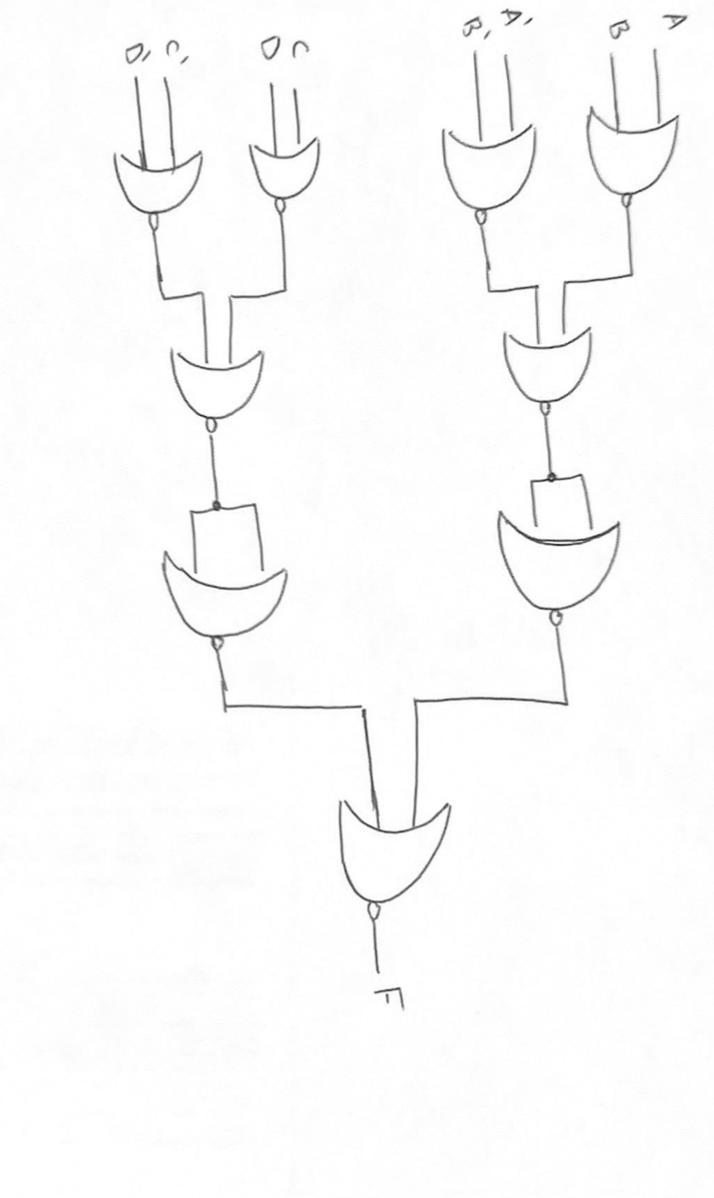NOR: (311, 792, 478, 927), (130, 538, 309, 661), (480, 502, 635, 633), (418, 117, 548, 235), (475, 320, 613, 422), (572, 105, 693, 216), (160, 338, 284, 443), (95, 135, 215, 237), (240, 130, 340, 221)
